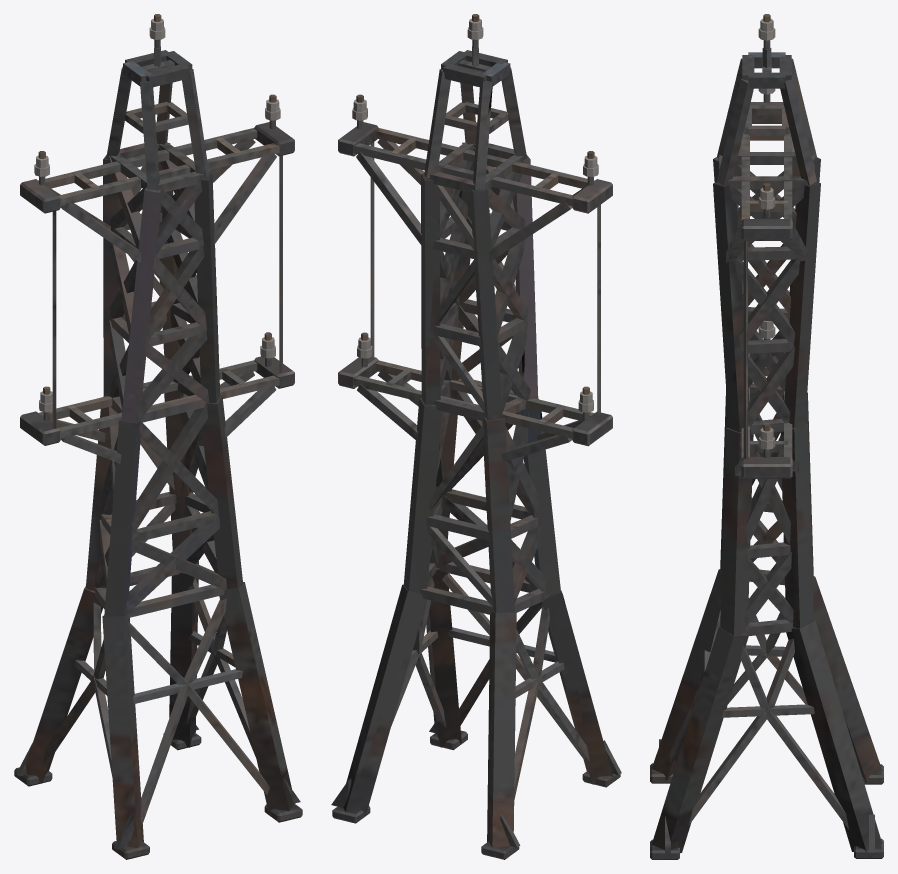
File: big-electric-pole.glb
The picture shows the model from 3 angles, left to right: view 1: azimuth 30°, elevation 25°; view 2: azimuth 150°, elevation 25°; view 3: azimuth 270°, elevation 25°; orthographic projection. The views are drawn at different scales.
Parts seen in each view (by area): view 1: body; view 2: body; view 3: body.
Part boxes in pixels (x1,y1,x2,y2): body: [14, 14, 302, 859]; body: [331, 14, 621, 859]; body: [650, 14, 883, 859].
Bounding box in the file's own units: 1.98 × 5.87 × 1.56.
1 material, 1 textured.
